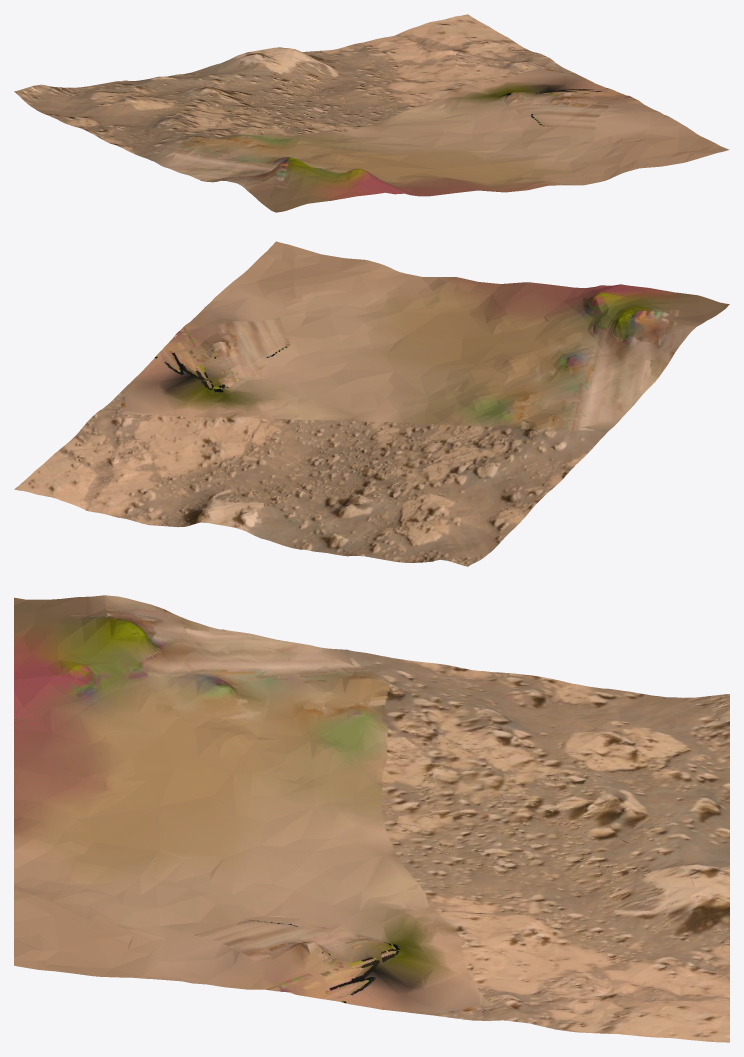
3 views of the same model, one above another, from view 1: azimuth 30°, elevation 25°; view 2: azimuth 150°, elevation 25°; view 3: azimuth 270°, elevation 25° (orthographic). The views are drawn at different scales.
Bounding box in the file's own units: 1.04 × 0.2586 × 1.04.
2 materials, 2 textured.
